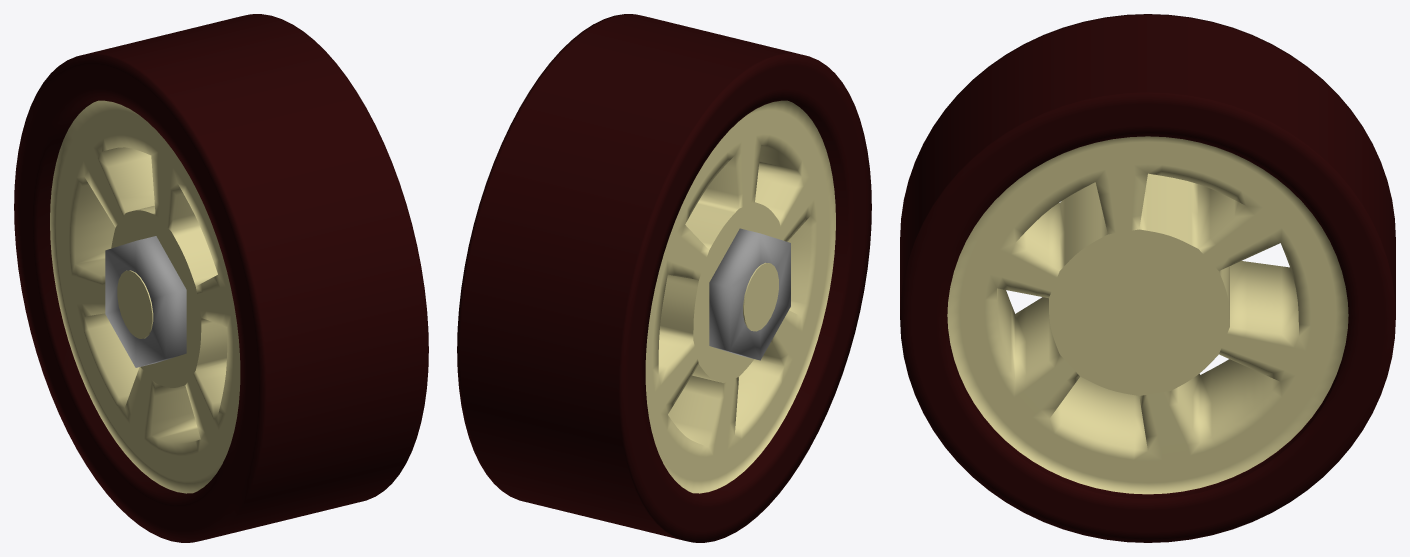
The model's file is rueda.FBX.
3 renders of one model, left to right at view 1: azimuth 30°, elevation 25°; view 2: azimuth 150°, elevation 25°; view 3: azimuth 270°, elevation 25°, orthographic.
Visible parts, largest first — view 1: Llanta_TD; view 2: Llanta_TD; view 3: Llanta_TD.
Part boxes in pixels (x1,y1,x2,y2): Llanta_TD: [14, 14, 428, 542]; Llanta_TD: [457, 14, 871, 542]; Llanta_TD: [900, 14, 1395, 542].
Bounding box in the file's own units: 25.94 × 64.53 × 64.53.
